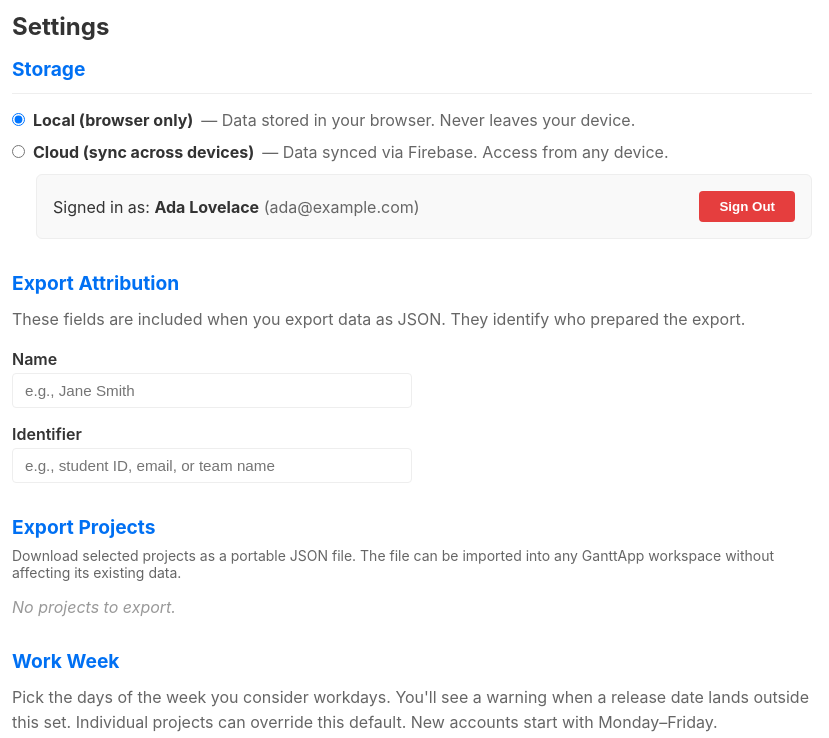
Test case: SettingsTab wiring › signing out › shows a friendly message, not the raw error, when signing out fails
Click the button "Sign Out".
click(747, 206)  # box [700, 191, 795, 222]
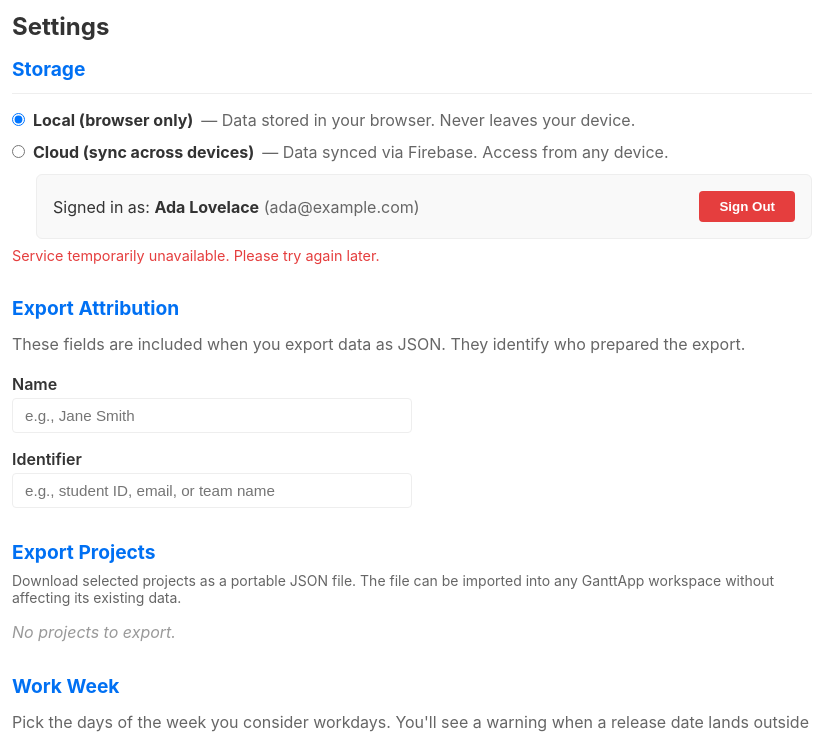
Now the text "Service temporarily unavailable. Please try again later." is shown, box [12, 247, 380, 264]
